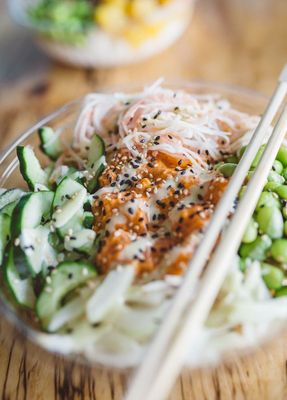sushi: (7, 0, 197, 71)
